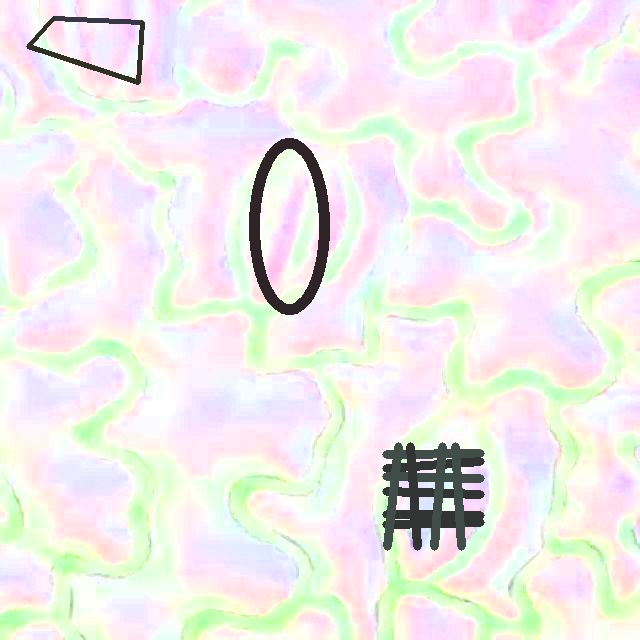open: (250, 137, 329, 314), (383, 442, 484, 550), (26, 16, 144, 84)
